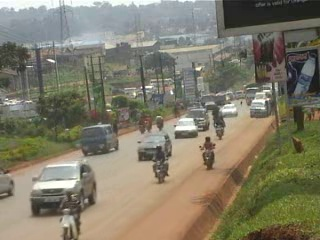Car: (27, 160, 99, 216), (132, 130, 173, 162), (0, 160, 20, 200), (170, 114, 200, 139), (185, 106, 212, 132), (220, 103, 240, 118), (202, 100, 220, 114)
Motorcycle: (55, 192, 86, 238), (149, 144, 172, 183), (198, 136, 220, 170), (212, 115, 227, 140), (154, 112, 164, 133), (137, 113, 146, 134)
